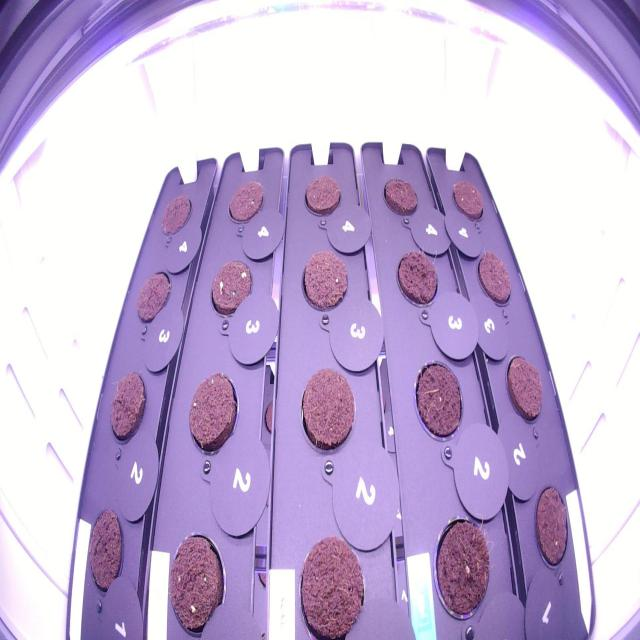germination: (208, 256, 255, 321)
pod: (292, 532, 369, 638), (427, 509, 493, 624), (166, 524, 229, 636), (408, 351, 467, 451), (298, 364, 358, 457), (188, 368, 241, 458), (528, 471, 573, 576), (84, 504, 129, 604), (499, 344, 547, 428), (299, 245, 351, 318), (107, 366, 149, 451), (392, 244, 441, 314), (131, 262, 175, 331), (223, 170, 268, 228), (474, 245, 514, 310), (380, 167, 421, 220), (448, 173, 488, 226), (302, 170, 344, 220), (158, 188, 193, 244)
